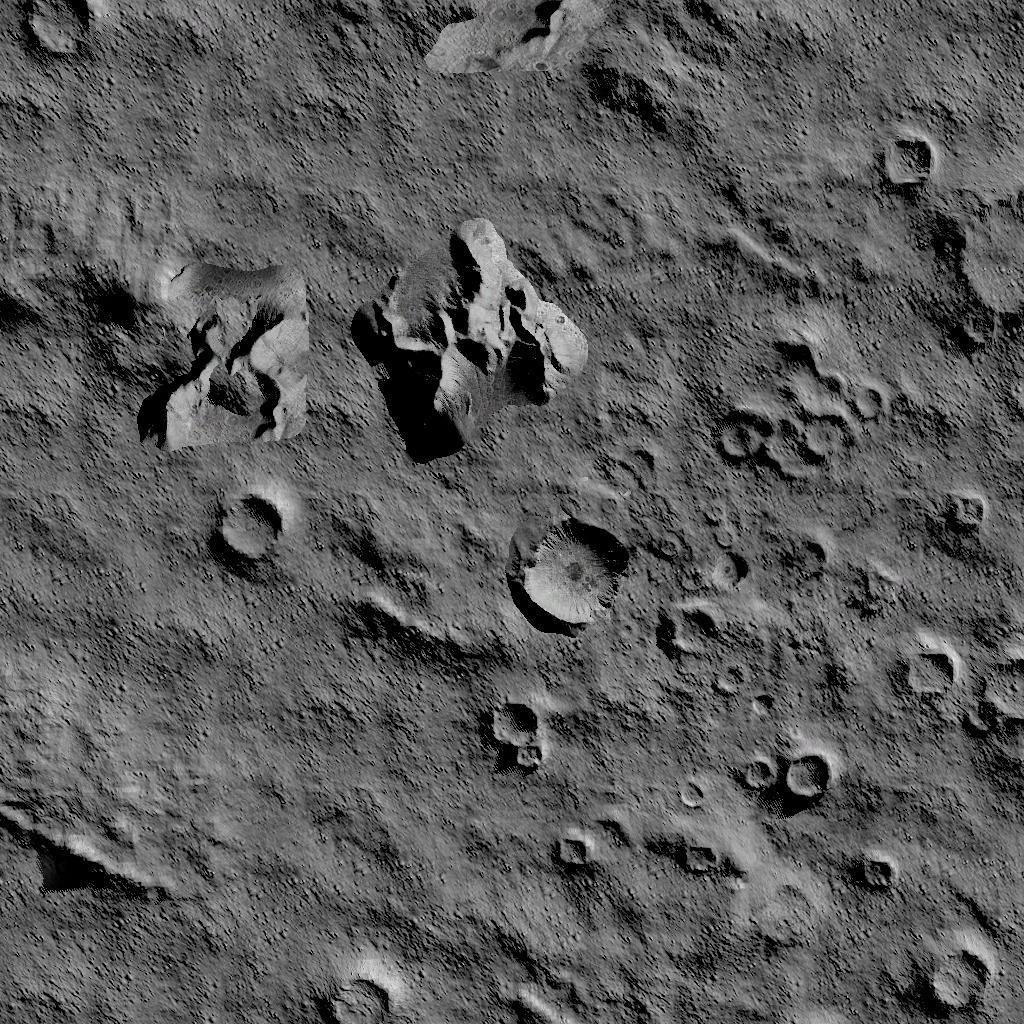Boulders: (343, 216, 588, 460), (105, 252, 315, 442), (385, 0, 600, 76)
Crater: (709, 380, 890, 478), (509, 516, 634, 632), (891, 640, 1024, 729), (950, 191, 1024, 329), (731, 746, 836, 804), (919, 942, 996, 1016), (207, 492, 288, 562), (17, 0, 104, 59), (699, 500, 749, 593), (483, 700, 549, 770), (321, 970, 397, 1024), (872, 130, 940, 190), (711, 664, 781, 721), (657, 602, 724, 654), (945, 484, 993, 530), (551, 830, 597, 868), (855, 852, 903, 888), (675, 840, 722, 874), (676, 777, 708, 809)
Plan surface: (211, 636, 469, 958), (0, 448, 200, 777), (113, 0, 325, 246), (333, 84, 621, 206)
